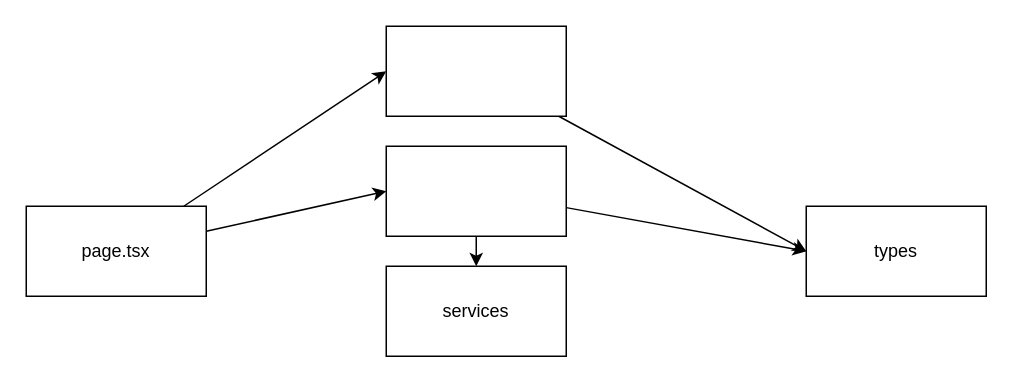
Image size: 1013x383. Some labels were removed from this diagram. The box of each missing label's shape, as (x1, y1, x2, y2) in pixels:
components: (385, 25, 566, 116)
hooks: (385, 145, 566, 236)
